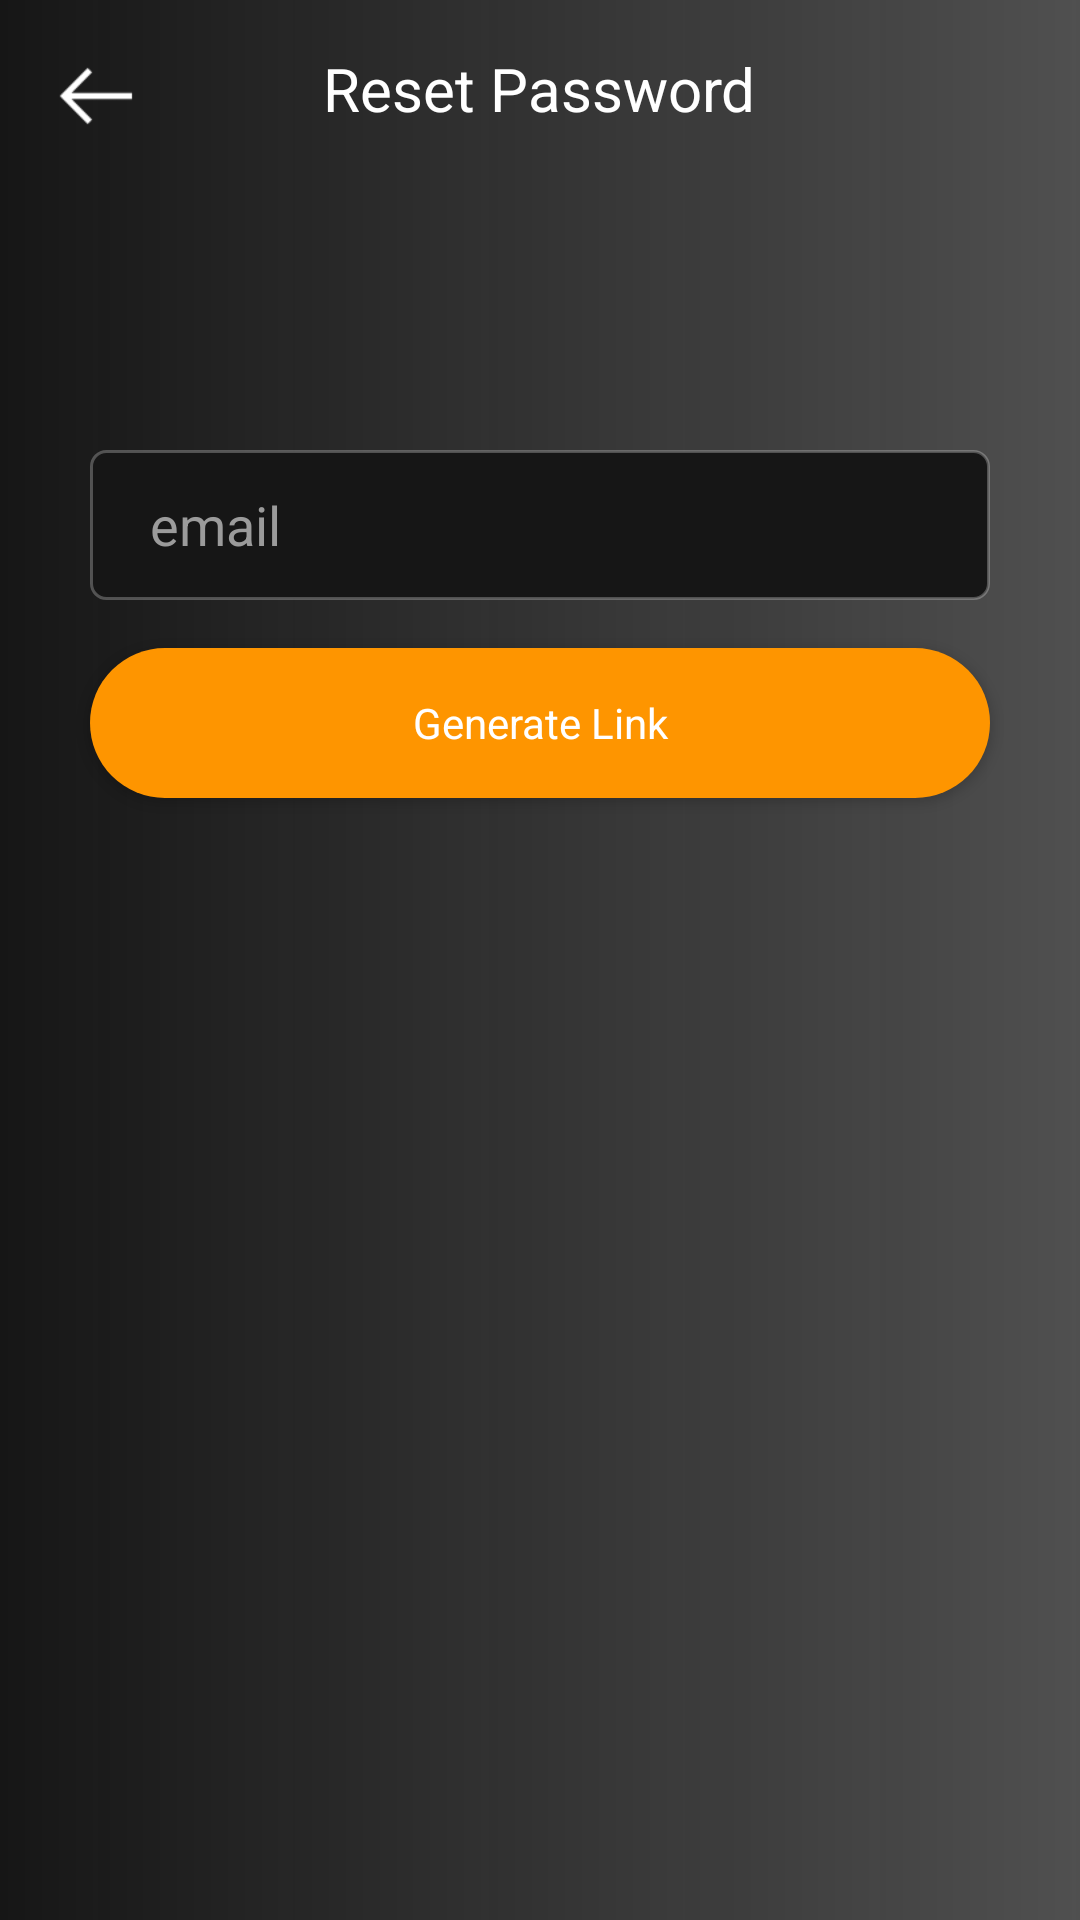

Icon click points for this 1080w x 1920h phone screenshot, format (x,y):
back: (96,96)
